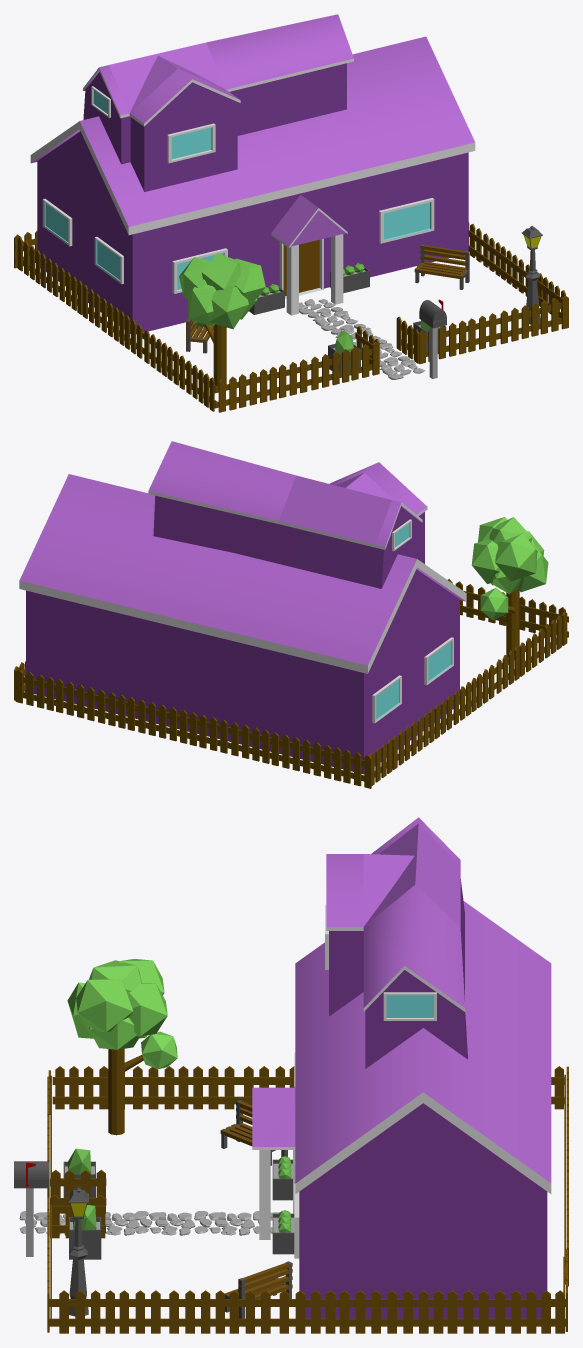
3 renders of one model, top to bottom at view 1: azimuth 30°, elevation 25°; view 2: azimuth 150°, elevation 25°; view 3: azimuth 270°, elevation 25°, orthographic. The views are drawn at different scales.
Visible parts, largest first — view 1: ee15; view 2: ee15; view 3: ee15.
Part boxes in pixels (left/top/right/bottom): ee15: left=14, top=14, right=568, bottom=412; ee15: left=14, top=441, right=568, bottom=788; ee15: left=14, top=817, right=568, bottom=1333.
Bounding box in the file's own units: 25.08 × 16.54 × 25.97.
